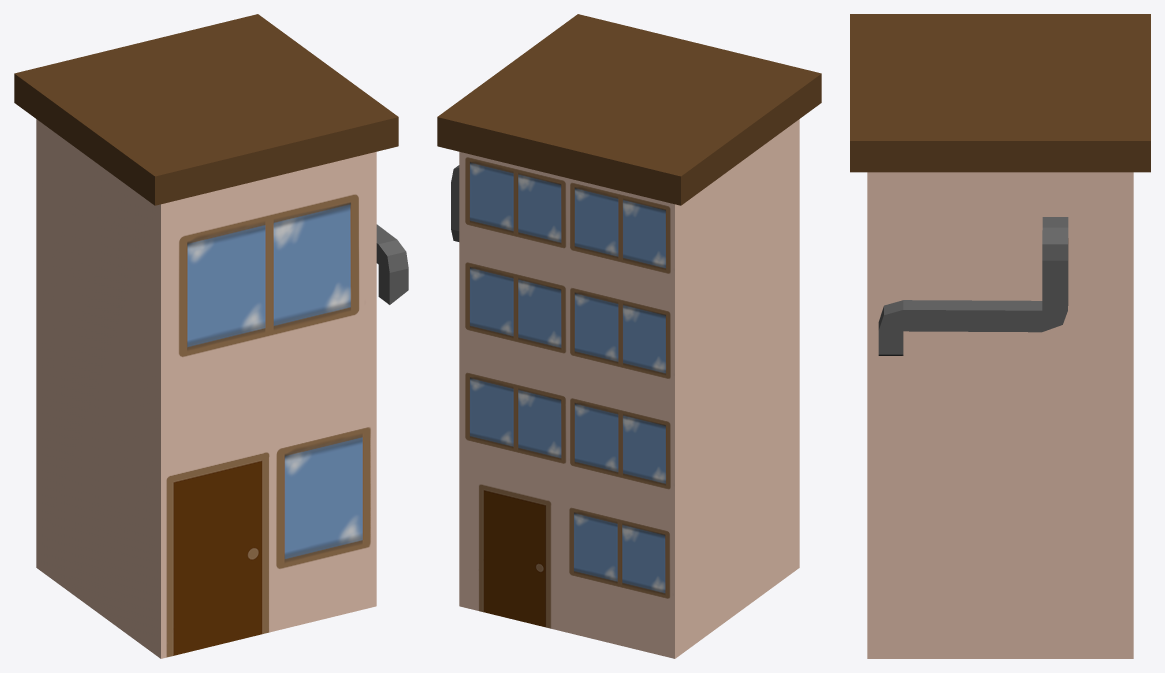
Rendered from Building5.fbx.
3 renders of one model, left to right at view 1: azimuth 30°, elevation 25°; view 2: azimuth 150°, elevation 25°; view 3: azimuth 270°, elevation 25°, orthographic. The views are drawn at different scales.
Visible parts, largest first — view 1: pCube14; view 2: pCube14; view 3: pCube14.
Boxes of the visible parts, box(x1,y1,x2,y2) form: pCube14: box(14, 14, 408, 658); pCube14: box(437, 14, 821, 658); pCube14: box(850, 14, 1150, 658).
Size of the model in its own units: 3.05 by 5.33 by 2.76.
